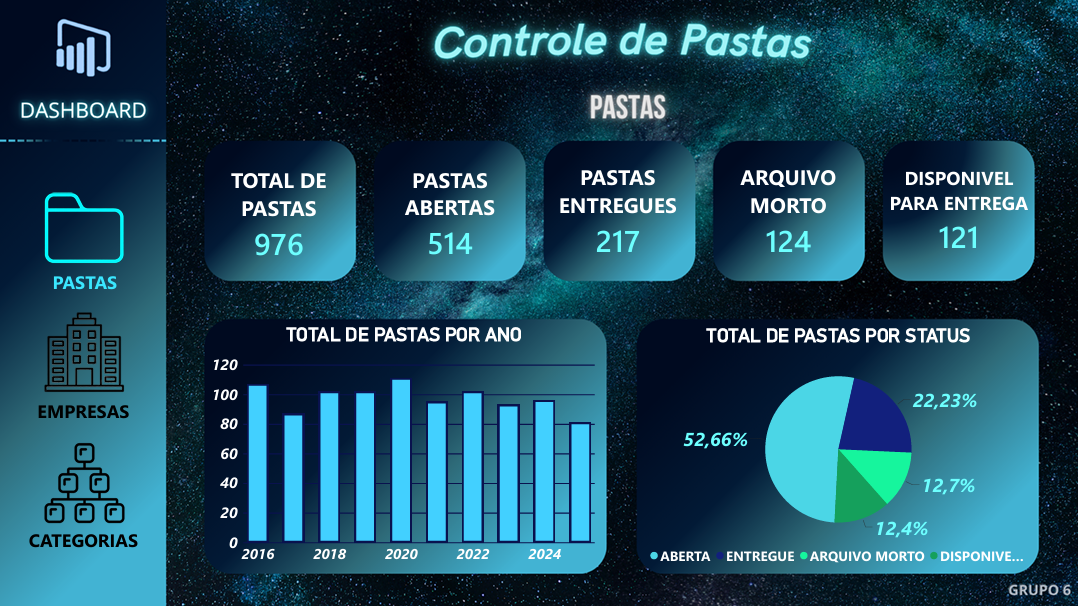

Layout of this report page (visuals, bound fields, positions):
{"tool":"powerbi","page":{"name":"PASTAS","canvas":[1920,1080],"ordinal":0},"visuals":[{"type":"image","box":[0,0,1920,1080],"z":0},{"type":"image","box":[77.5,332.5,145,147.5],"z":1000},{"type":"image","box":[77.5,522.5,145,207.5],"z":2000},{"type":"image","box":[77.5,752.5,146.1,212],"z":3000},{"type":"cardVisual","fields":{"Data":["PASTA.TOTAL PASTAS"]},"box":[360.4,257.7,271.8,245.6],"z":4000},{"type":"cardVisual","fields":{"Data":["PASTA.PASTAS ABERTAS"]},"box":[666.4,255.7,267.8,247.7],"z":5000},{"type":"cardVisual","fields":{"Data":["PASTA.PASTAS ENTREGUES"]},"box":[960.4,251.7,275.8,247.7],"z":6000},{"type":"cardVisual","fields":{"Data":["PASTA.PASTAS ARQUIVO-MORTO"]},"box":[1266.5,251.7,269.8,247.7],"z":7000},{"type":"columnChart","title":"TOTAL DE PASTAS POR ANO","fields":{"Category":["PASTA.DATAABERTURA.Variação.Hierarquia de datas.Ano"],"Y":["PASTA.TOTAL PASTAS"]},"box":[360.4,561.7,716.8,461.1],"z":8000},{"type":"pieChart","title":"TOTAL DE PASTAS POR STATUS","fields":{"Category":["STATUS.NOME"],"Y":["PASTA.TOTAL PASTAS"]},"box":[1135,562.5,710,460],"z":9000},{"type":"textbox","box":[42.5,937.5,212.5,55],"z":10000},{"type":"textbox","box":[55,707.5,187.5,45],"z":11000},{"type":"textbox","box":[80,480,142.5,45],"z":12000},{"type":"cardVisual","fields":{"Data":["PASTA.DISPONIVEL PARA ENTREGA"]},"box":[1562.4,251.7,283.9,247.7],"z":12001}]}

Visuals, with their boxes in screenshot pixels (x1, y1, x2, y2), scaled from the page's 1920x1080 canvas onto the 1078x606 screenshot:
image: (left=0, top=0, right=1077, bottom=605)
image: (left=44, top=187, right=125, bottom=269)
image: (left=44, top=293, right=125, bottom=410)
image: (left=44, top=422, right=126, bottom=541)
cardVisual - PASTA.TOTAL PASTAS: (left=202, top=145, right=355, bottom=282)
cardVisual - PASTA.PASTAS ABERTAS: (left=374, top=143, right=525, bottom=282)
cardVisual - PASTA.PASTAS ENTREGUES: (left=539, top=141, right=694, bottom=280)
cardVisual - PASTA.PASTAS ARQUIVO-MORTO: (left=711, top=141, right=863, bottom=280)
"TOTAL DE PASTAS POR ANO" columnChart: (left=202, top=315, right=605, bottom=574)
"TOTAL DE PASTAS POR STATUS" pieChart: (left=637, top=316, right=1036, bottom=574)
textbox: (left=24, top=526, right=143, bottom=557)
textbox: (left=31, top=397, right=136, bottom=422)
textbox: (left=45, top=269, right=125, bottom=295)
cardVisual - PASTA.DISPONIVEL PARA ENTREGA: (left=877, top=141, right=1037, bottom=280)
